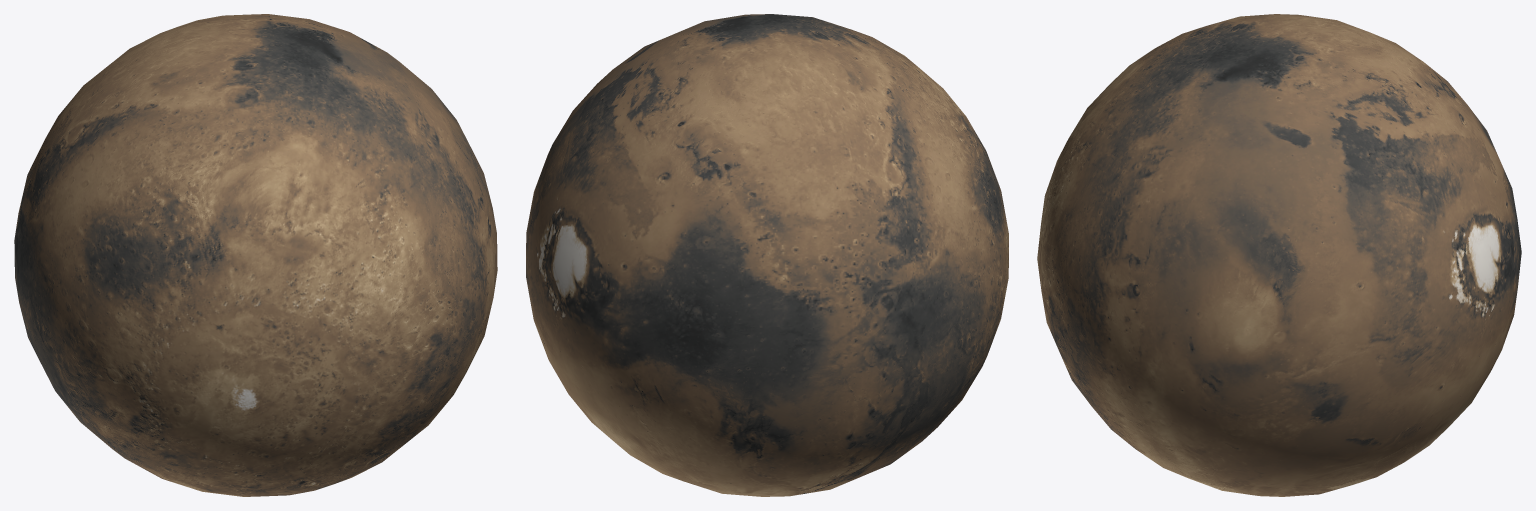
File: mars.obj
The picture shows the model from 3 angles, left to right: view 1: azimuth 30°, elevation 25°; view 2: azimuth 150°, elevation 25°; view 3: azimuth 270°, elevation 25°; orthographic projection.
Parts seen in each view (by area): view 1: Mars; view 2: Mars; view 3: Mars.
Boxes of the visible parts, x1,y1,x2,y2 form: Mars: (14, 14, 497, 496); Mars: (526, 14, 1008, 496); Mars: (1037, 14, 1521, 496).
Size of the model in its own units: 6.76 by 6.76 by 6.78.
Materials: 1 (1 with a texture image).
